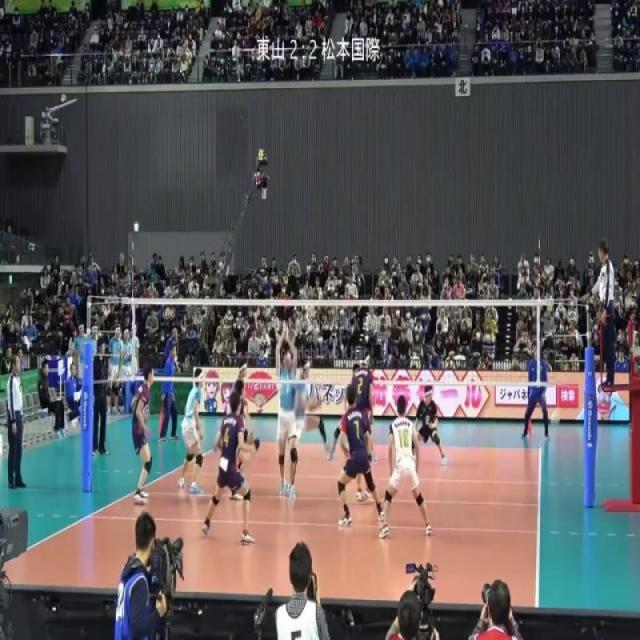volleyball: (550, 408, 560, 427)
